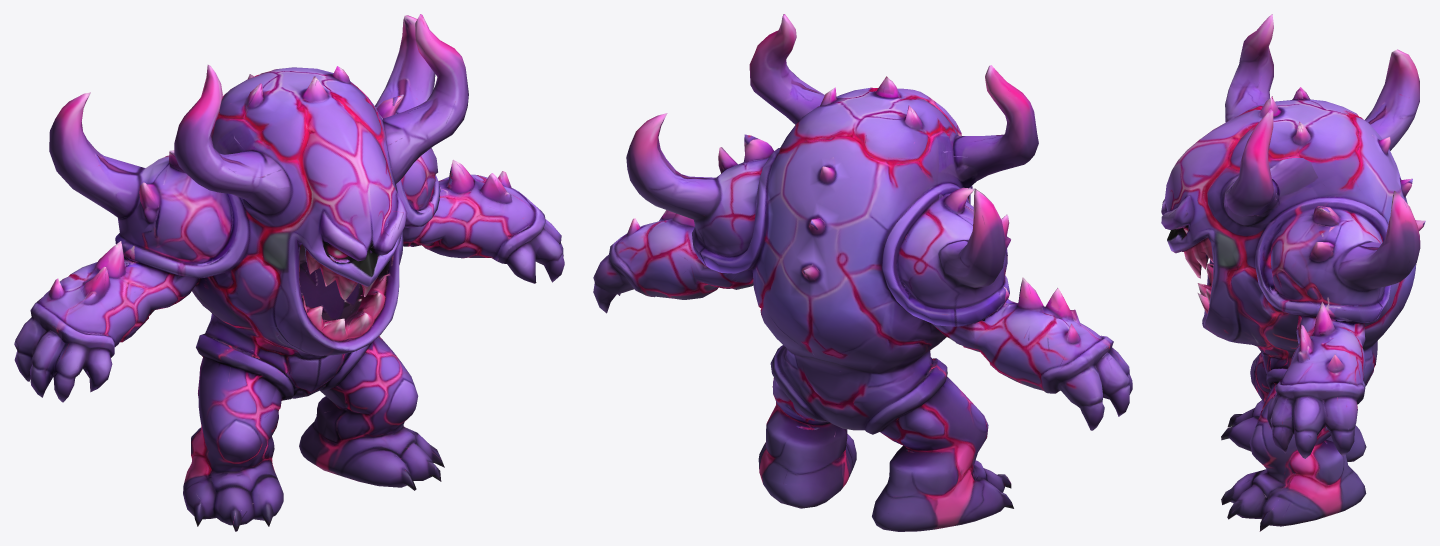
Rendered from Meshy_AI_Crimson_Stone_Golem_0128120843_texture.fbx.
3 views of the same model, side by side, from view 1: azimuth 30°, elevation 25°; view 2: azimuth 150°, elevation 25°; view 3: azimuth 270°, elevation 25° (orthographic). The views are drawn at different scales.
Visible parts, largest first — view 1: Mesh1.0; view 2: Mesh1.0; view 3: Mesh1.0.
Part boxes in pixels (x1,y1,x2,y2): Mesh1.0: [14, 14, 564, 531]; Mesh1.0: [593, 14, 1132, 531]; Mesh1.0: [1161, 14, 1425, 531].
Bounding box in the file's own units: 192 × 157 × 90.38.
1 material, 1 textured.
